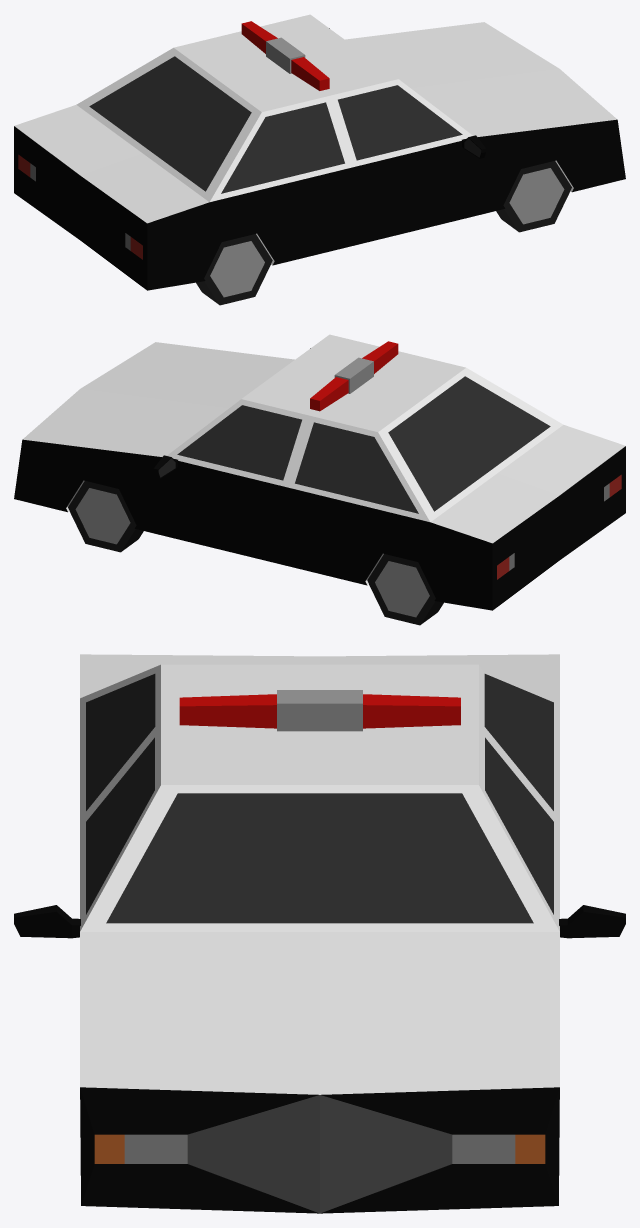
File: MobilPolisi.fbx
3 renders of one model, top to bottom at view 1: azimuth 30°, elevation 25°; view 2: azimuth 150°, elevation 25°; view 3: azimuth 270°, elevation 25°, orthographic. The views are drawn at different scales.
Parts seen in each view (by area): view 1: Cube.005; view 2: Cube.005; view 3: Cube.005.
Boxes of the visible parts, x1=… form: Cube.005: x1=14, y1=14, x2=625, y2=305; Cube.005: x1=14, y1=334, x2=625, y2=625; Cube.005: x1=14, y1=654, x2=625, y2=1213.
Size of the model in its own units: 712 by 248 by 430.
